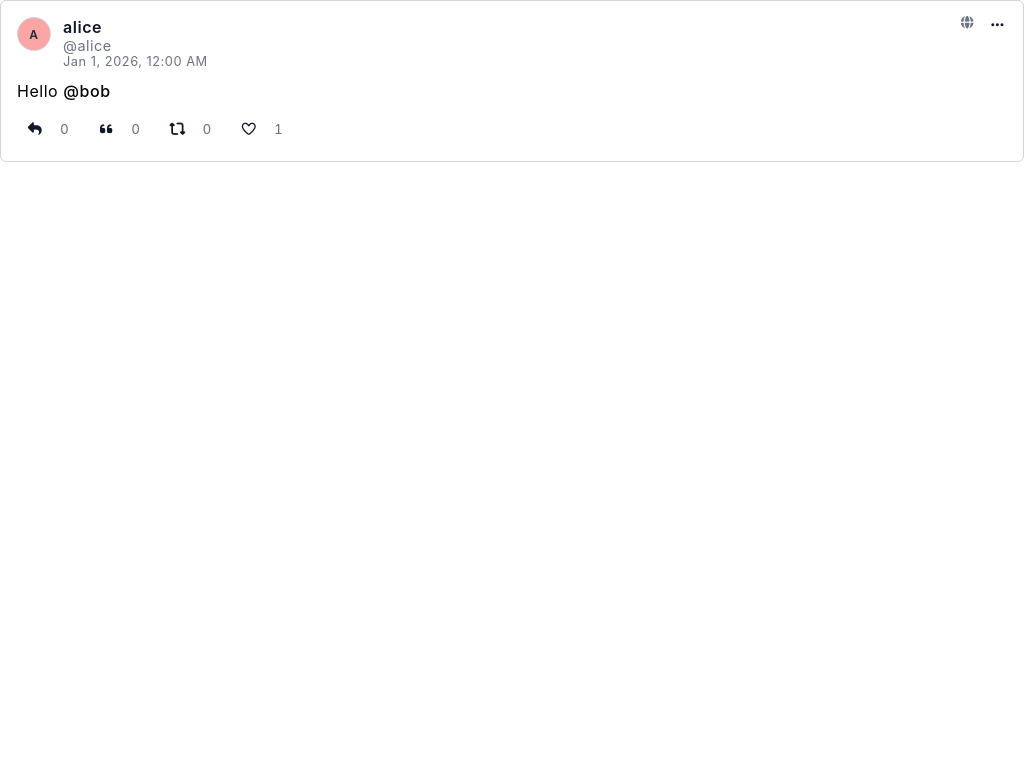
Scenario: ActivityCard › opens the actors modal when the like counter is clicked
Click the button with class "activity-card__count" showing "1" at (278, 129), box [266,117,290,141]
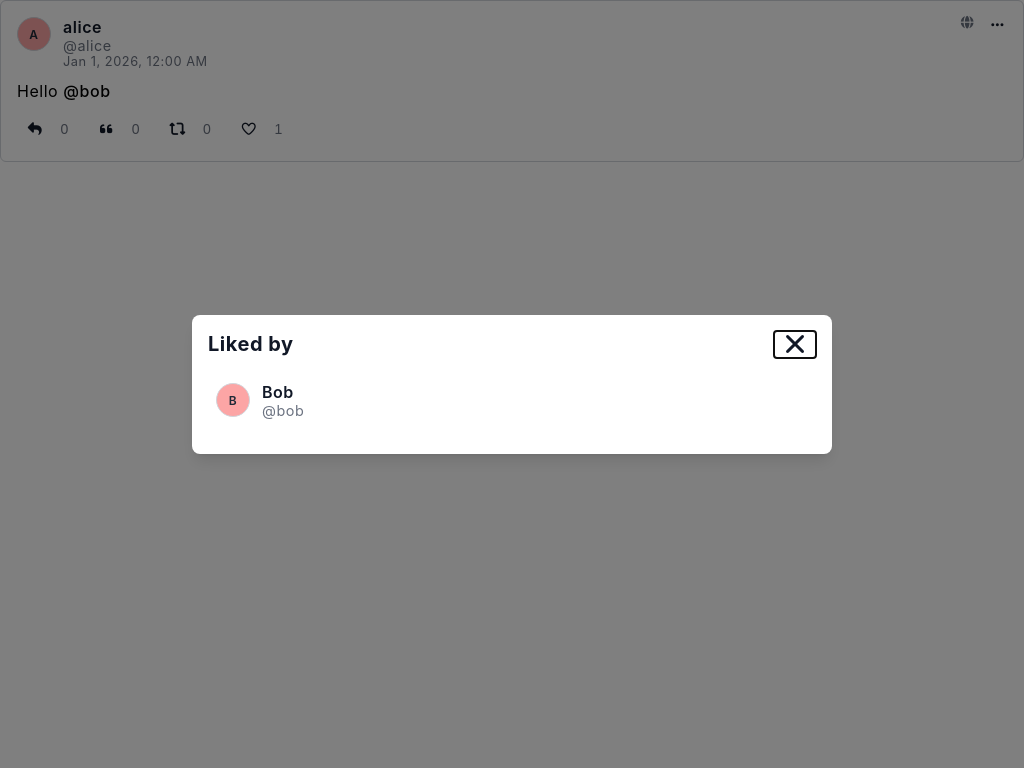
expect the text "bob" is shown: met, box [63,81,111,101]
expect the text "Liked by" is shown: met, box [208,332,294,356]
